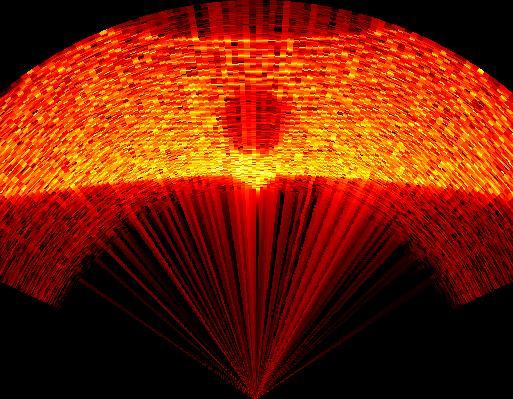box_crate: (214, 74, 299, 194)
